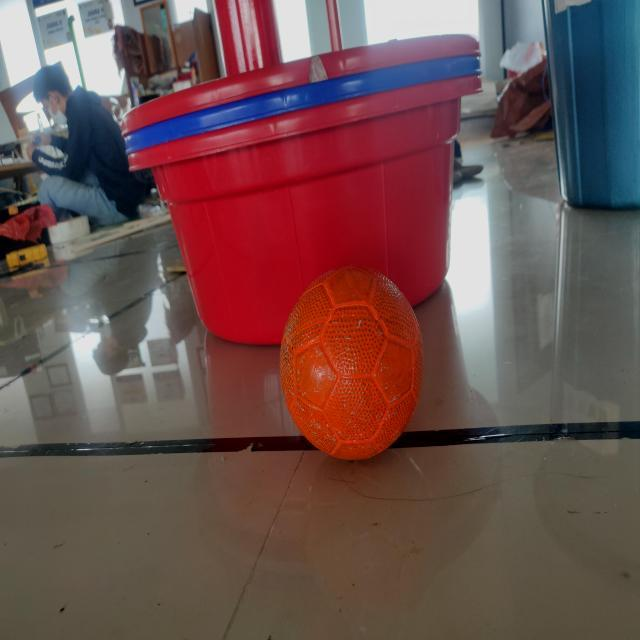bola: (267, 253, 428, 468)
